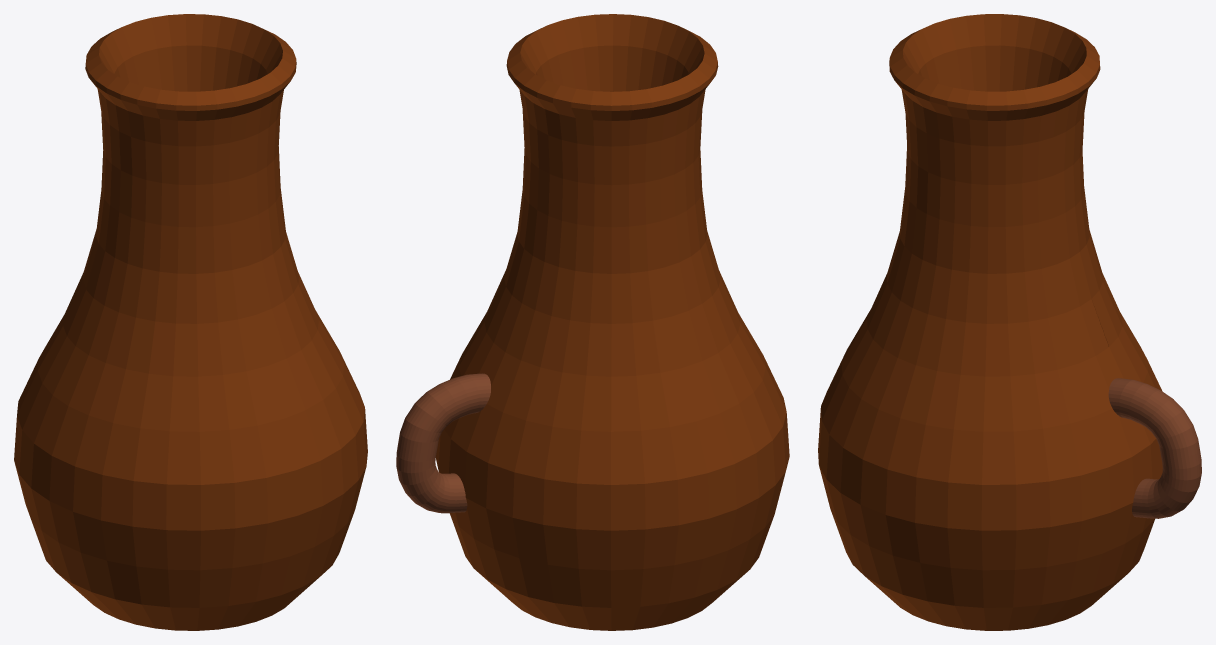
The model's file is Clay Pot.fbx.
3 views of the same model, side by side, from view 1: azimuth 30°, elevation 25°; view 2: azimuth 150°, elevation 25°; view 3: azimuth 270°, elevation 25° (orthographic).
Visible parts, largest first — view 1: Cylinder.003; view 2: Cylinder.003; view 3: Cylinder.003.
Part boxes in pixels (x1,y1,x2,y2): Cylinder.003: [14, 14, 367, 630]; Cylinder.003: [396, 14, 789, 630]; Cylinder.003: [818, 14, 1201, 630].
Size of the model in its own units: 326 by 542 by 354.
